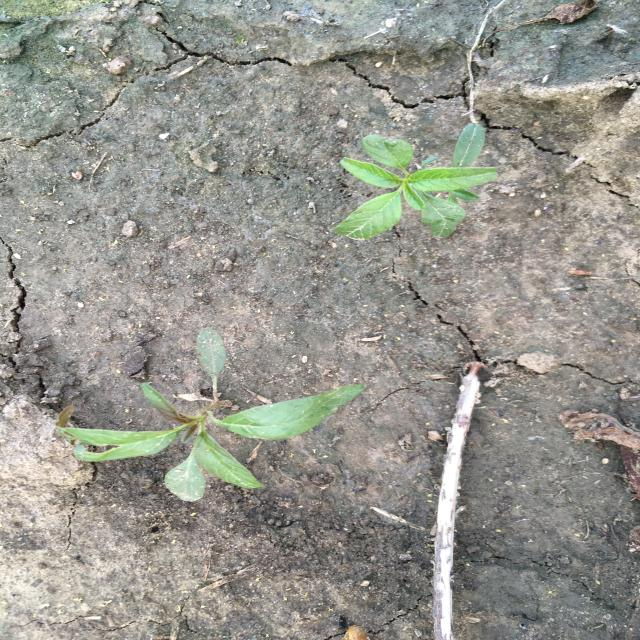Waterhemp: (52, 327, 371, 505), (328, 122, 503, 244)
